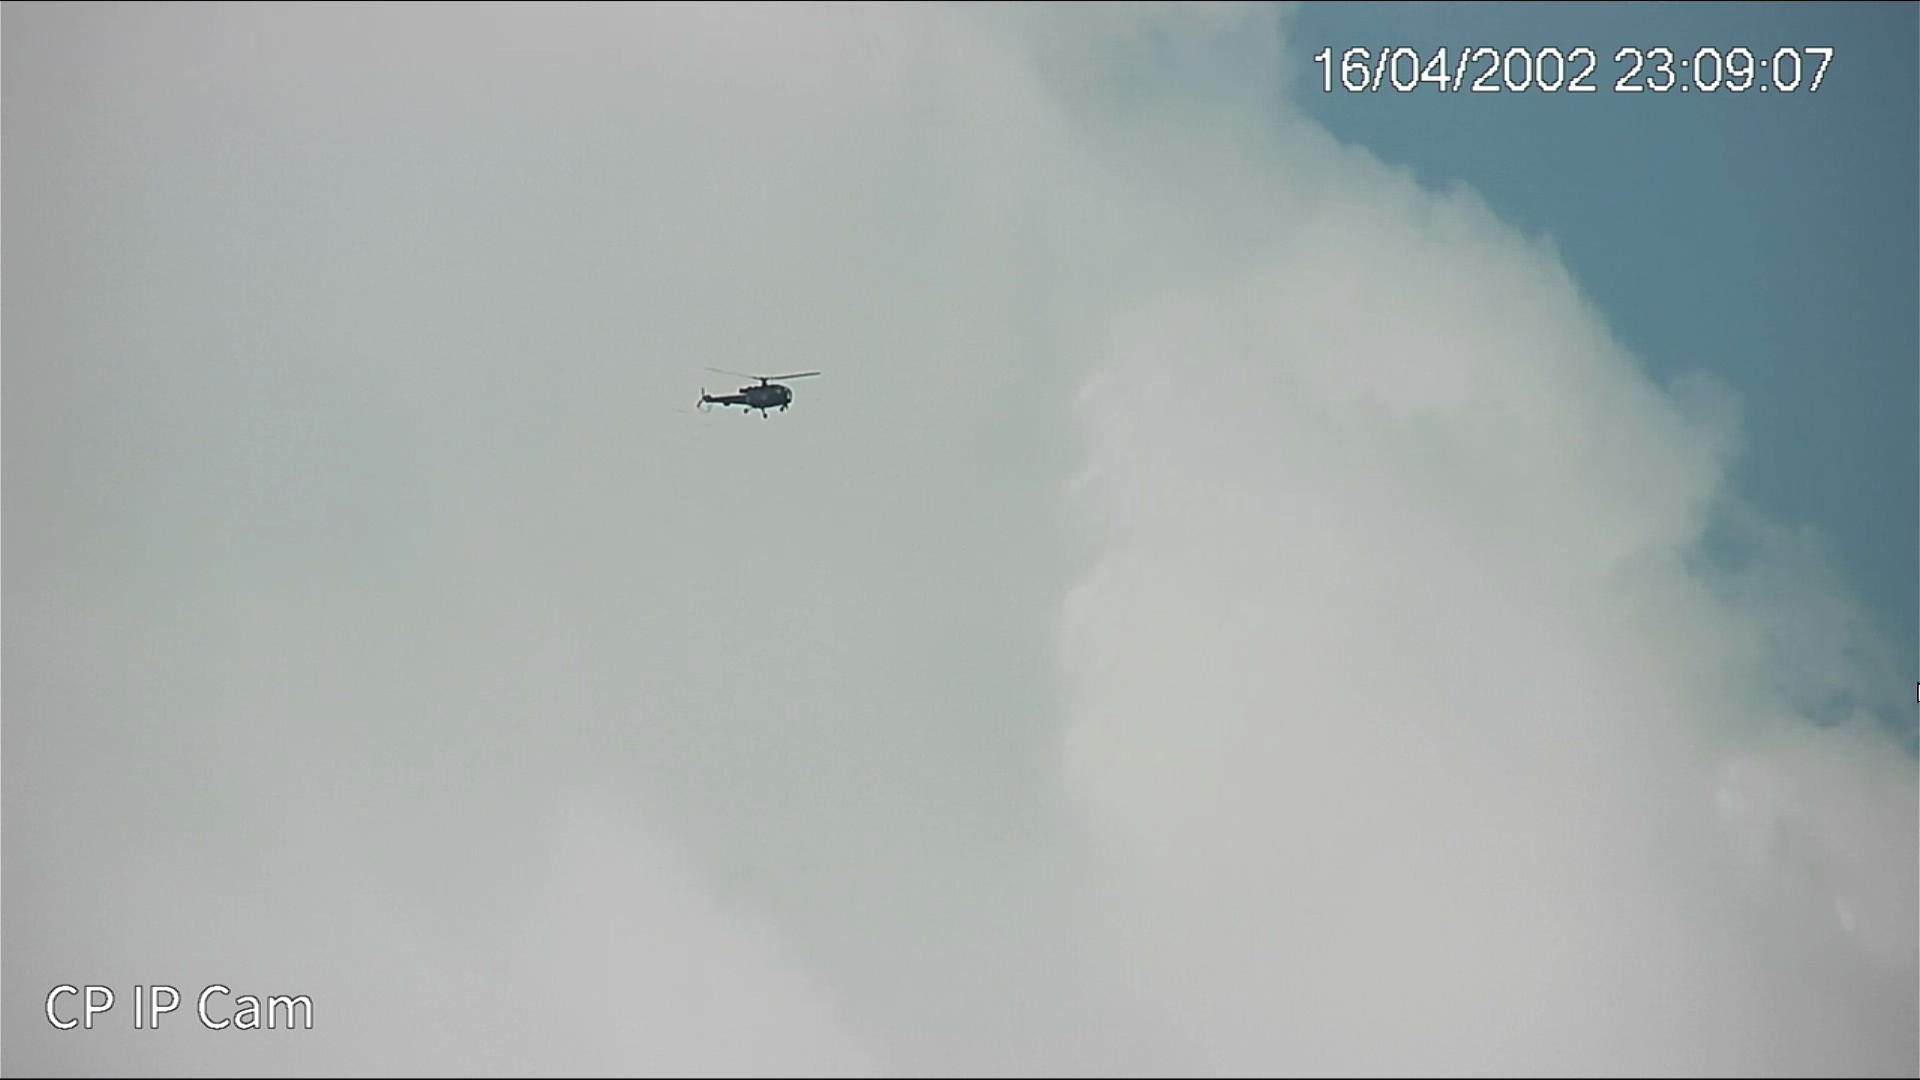SU_30: (684, 375, 789, 417)
